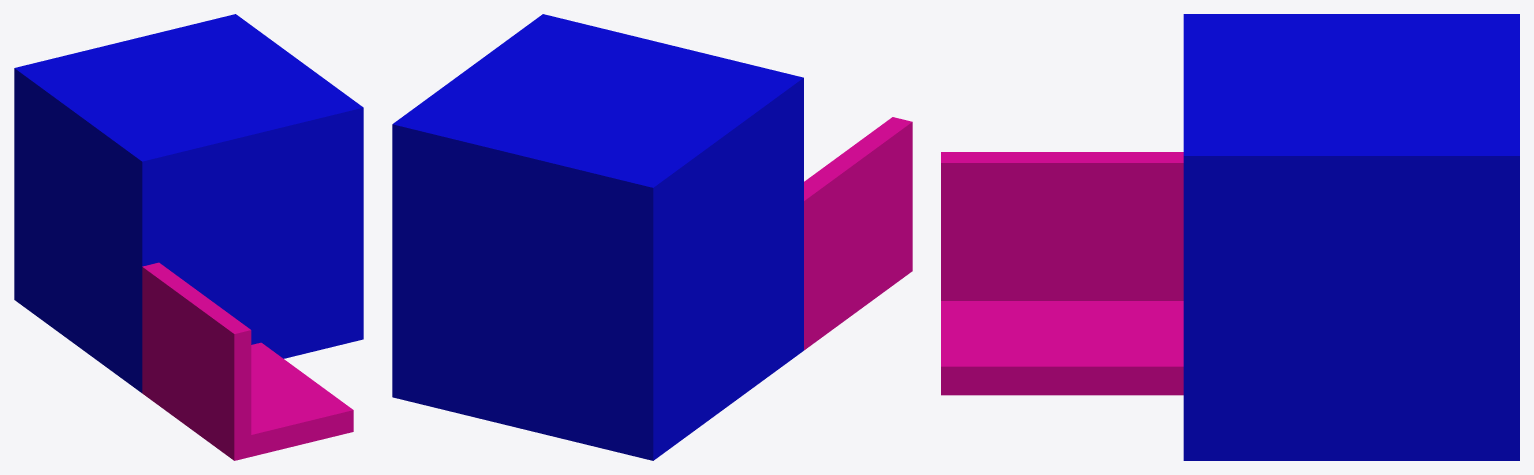
3 renders of one model, left to right at view 1: azimuth 30°, elevation 25°; view 2: azimuth 150°, elevation 25°; view 3: azimuth 270°, elevation 25°, orthographic. The views are drawn at different scales.
Parts seen in each view (by area): view 1: RP-1.-1; view 2: RP-1.-1; view 3: RP-1.-1.
Boxes of the visible parts, x1,y1,x2,y2 form: RP-1.-1: (14,14,363,460); RP-1.-1: (392,14,912,460); RP-1.-1: (941,14,1519,460).
Bounding box in the file's own units: 1 × 1 × 1.72.
